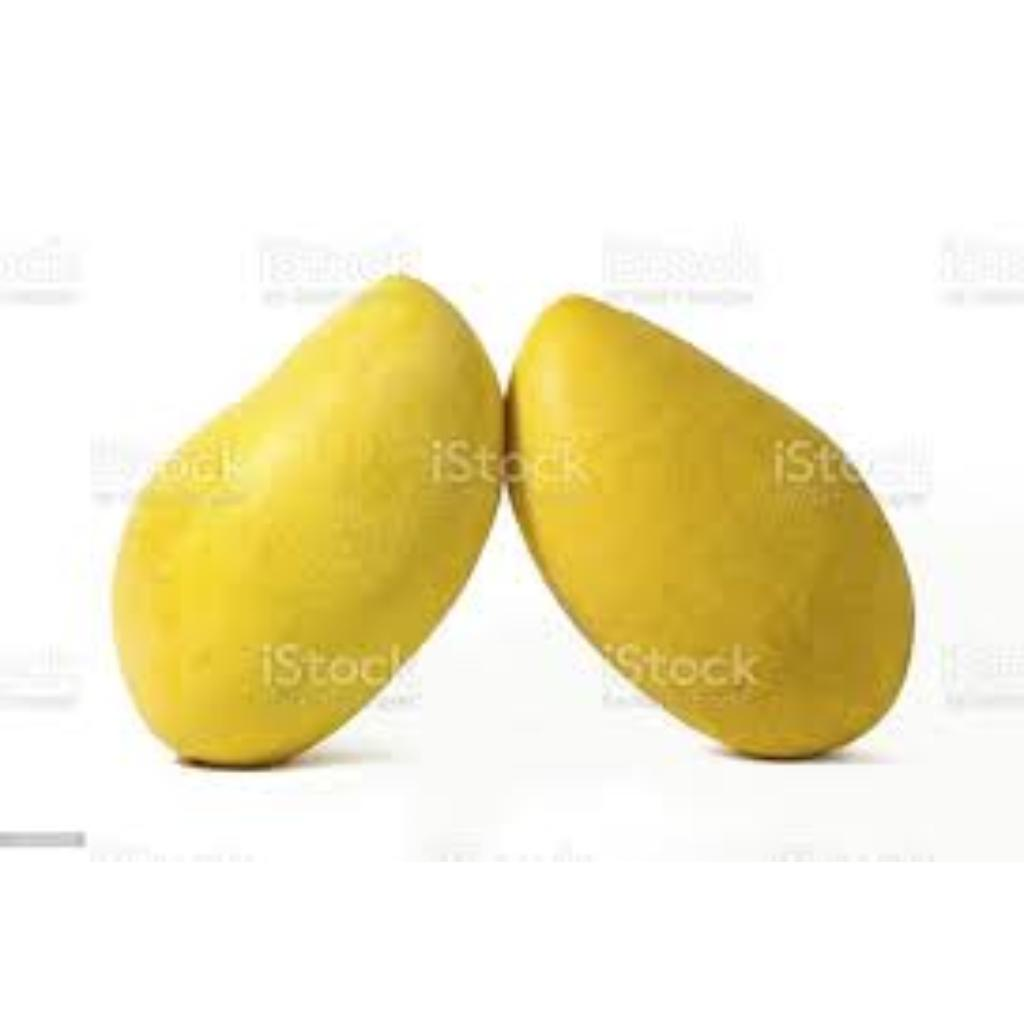mango: (501, 294, 922, 764), (101, 273, 504, 762)
